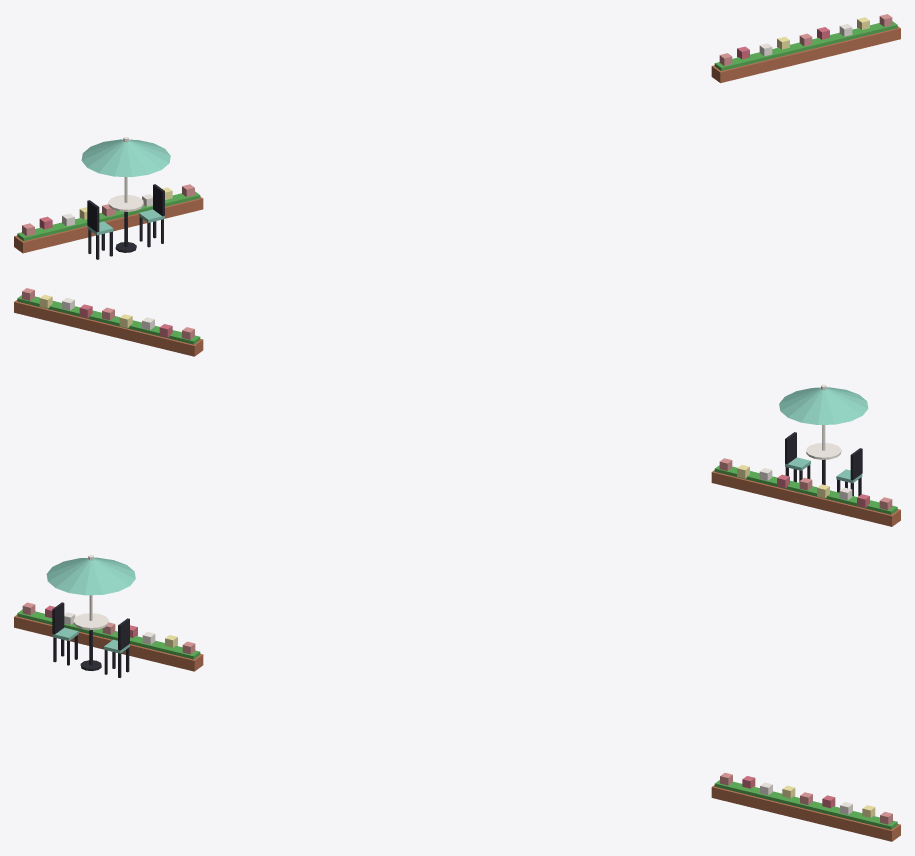
Rendered from CatCafe_Plot_Tier2_48x37.glb.
3 renders of one model, top to bottom at view 1: azimuth 30°, elevation 25°; view 2: azimuth 150°, elevation 25°; view 3: azimuth 330°, elevation 25°, orthographic.
Visible parts, largest first — view 1: CatCafe_Plot_Tier2_48x37, CatCafe_Plot_Tier2_48x37_Bistro, CatCafe_Plot_Tier2_48x37_Flowers; view 2: CatCafe_Plot_Tier2_48x37, CatCafe_Plot_Tier2_48x37_Bistro, CatCafe_Plot_Tier2_48x37_Flowers; view 3: CatCafe_Plot_Tier2_48x37, CatCafe_Plot_Tier2_48x37_Bistro, CatCafe_Plot_Tier2_48x37_Flowers.
Boxes of the visible parts, <box> form: CatCafe_Plot_Tier2_48x37: <box>14,14,900,253</box>; CatCafe_Plot_Tier2_48x37_Bistro: <box>81,137,170,259</box>; CatCafe_Plot_Tier2_48x37_Flowers: <box>17,21,897,241</box>; CatCafe_Plot_Tier2_48x37: <box>14,288,900,526</box>; CatCafe_Plot_Tier2_48x37_Bistro: <box>779,384,868,496</box>; CatCafe_Plot_Tier2_48x37_Flowers: <box>17,295,897,514</box>; CatCafe_Plot_Tier2_48x37: <box>14,602,900,841</box>; CatCafe_Plot_Tier2_48x37_Bistro: <box>46,555,135,677</box>; CatCafe_Plot_Tier2_48x37_Flowers: <box>17,609,897,829</box>.
Bounding box in the file's own units: 42.8 × 5.15 × 3.8.
1 material, 1 textured.
